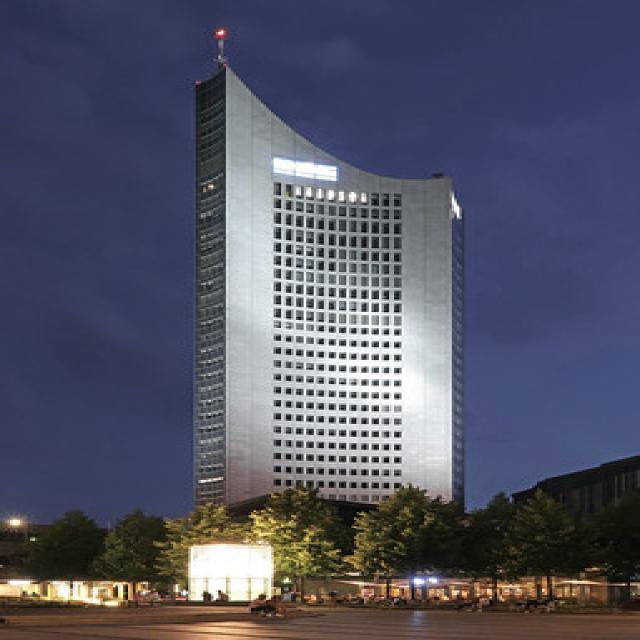building: (184, 39, 466, 526)
